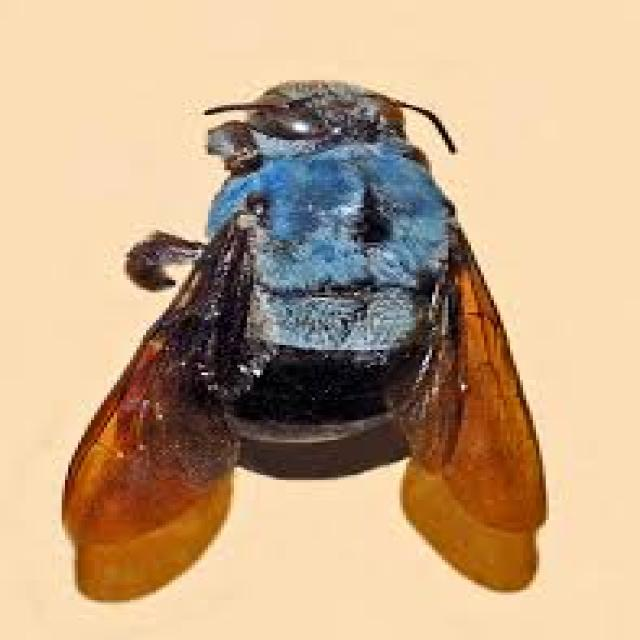Xylocopa: (65, 76, 570, 560)
